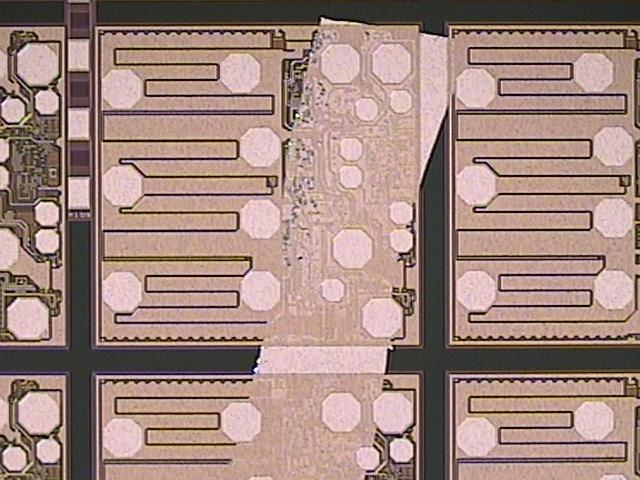BLOCK ETCH: (228, 15, 477, 480)
